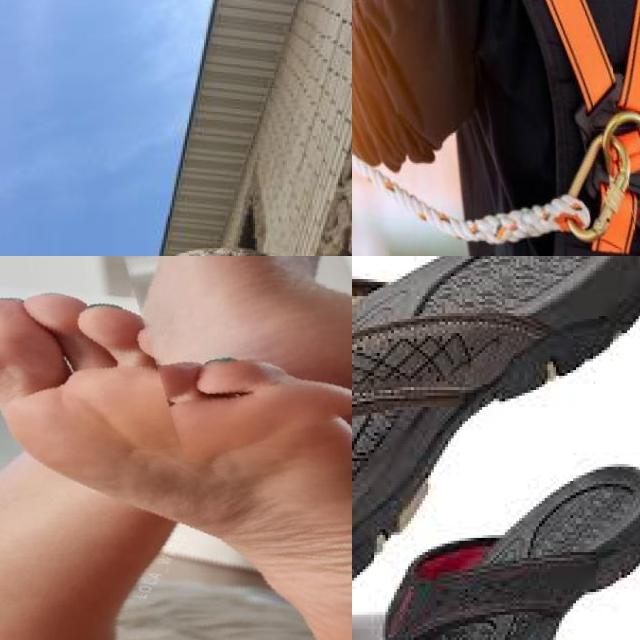Barefoots: (0, 274, 352, 640), (131, 256, 352, 397)
Harness: (524, 0, 640, 256)
Sandals: (352, 256, 640, 640)
head_nohelmet: (116, 243, 293, 256)
